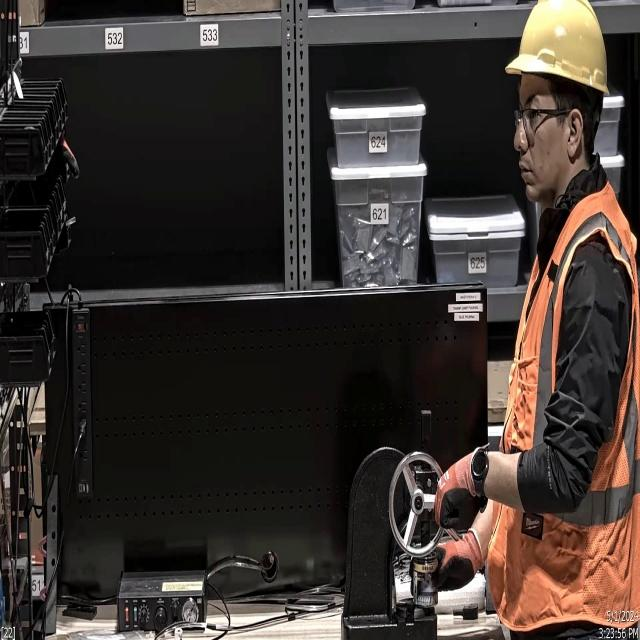gloves: (434, 454, 472, 531)
